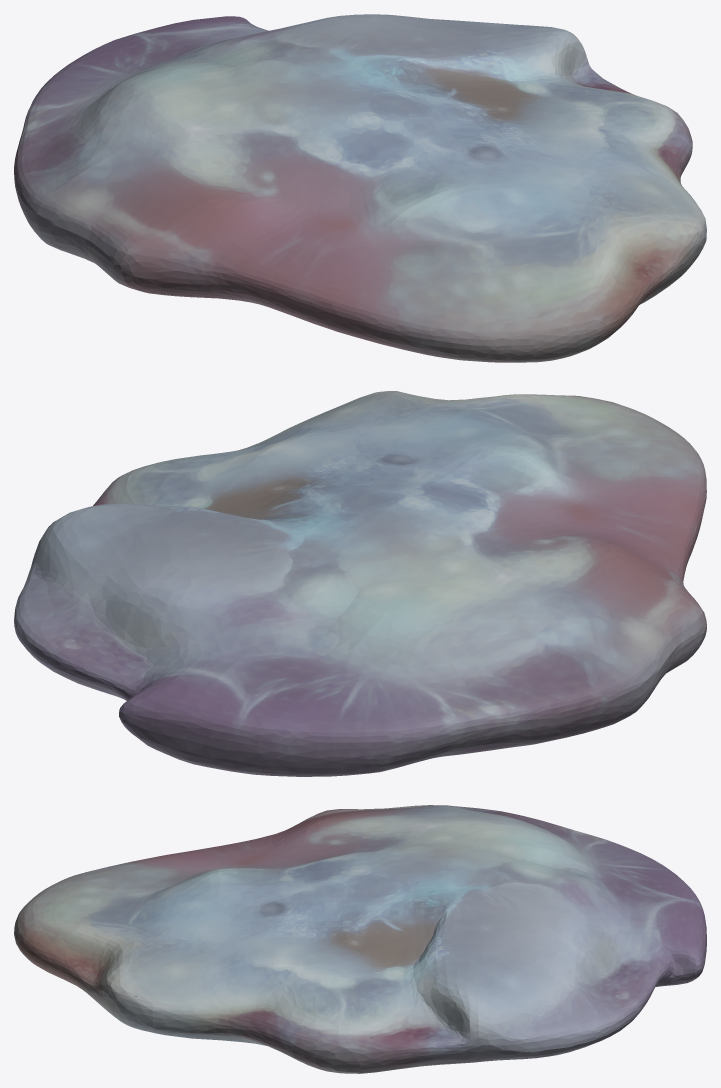
Rendered from actinic-keratoses.glb.
3 views of the same model, one above another, from view 1: azimuth 30°, elevation 25°; view 2: azimuth 150°, elevation 25°; view 3: azimuth 270°, elevation 25° (orthographic). The views are drawn at different scales.
Visible parts, largest first — view 1: world; view 2: world; view 3: world.
Boxes of the visible parts, box(x1,y1,x2,y2) form: world: box(14, 14, 706, 362); world: box(14, 391, 706, 776); world: box(14, 805, 706, 1073).
Size of the model in its own units: 0.8066 by 0.1971 by 0.9985.
1 material, 1 textured.
